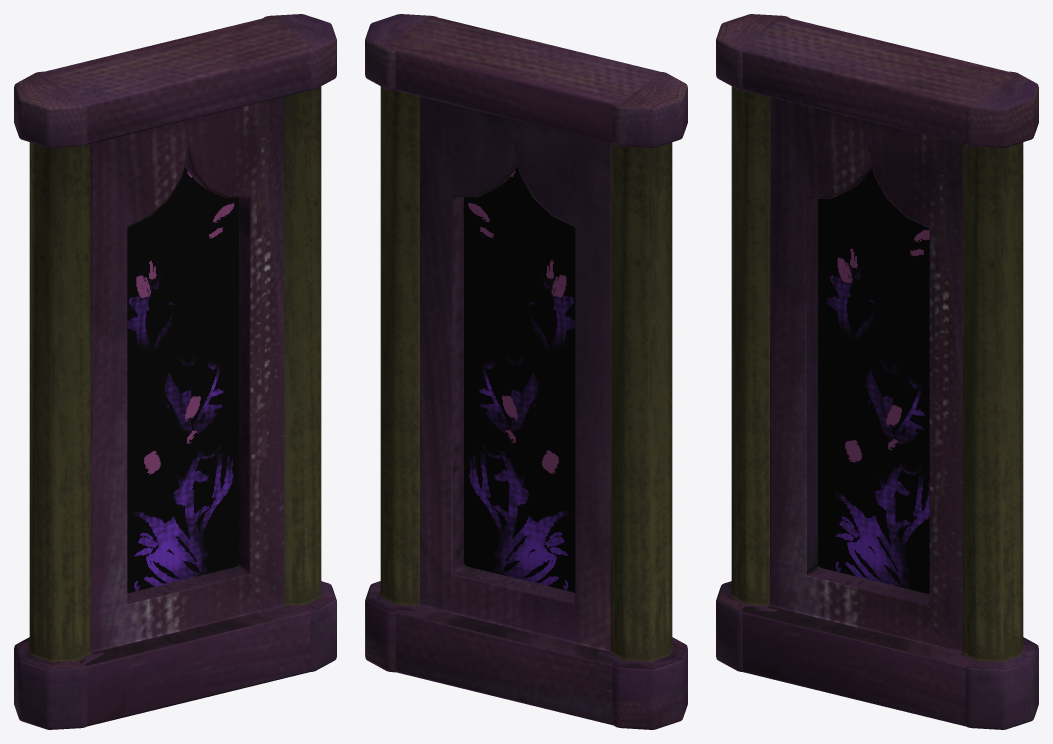
The model's file is MANOR_WINDOW_1_001.obj.
3 views of the same model, side by side, from view 1: azimuth 30°, elevation 25°; view 2: azimuth 150°, elevation 25°; view 3: azimuth 330°, elevation 25° (orthographic).
Visible parts, largest first — view 1: MANOR_WINDOW_1_001; view 2: MANOR_WINDOW_1_001; view 3: MANOR_WINDOW_1_001.
Part boxes in pixels (x1=…): MANOR_WINDOW_1_001: x1=14, y1=14, x2=336, y2=729; MANOR_WINDOW_1_001: x1=365, y1=14, x2=687, y2=729; MANOR_WINDOW_1_001: x1=716, y1=14, x2=1038, y2=729.
Bounding box in the file's own units: 1.57 × 3 × 0.4135.
